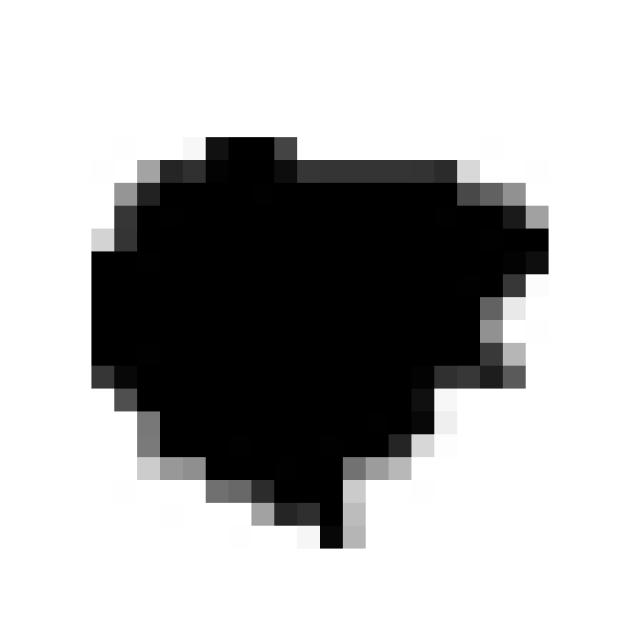0 -zero-: (73, 121, 559, 558)
